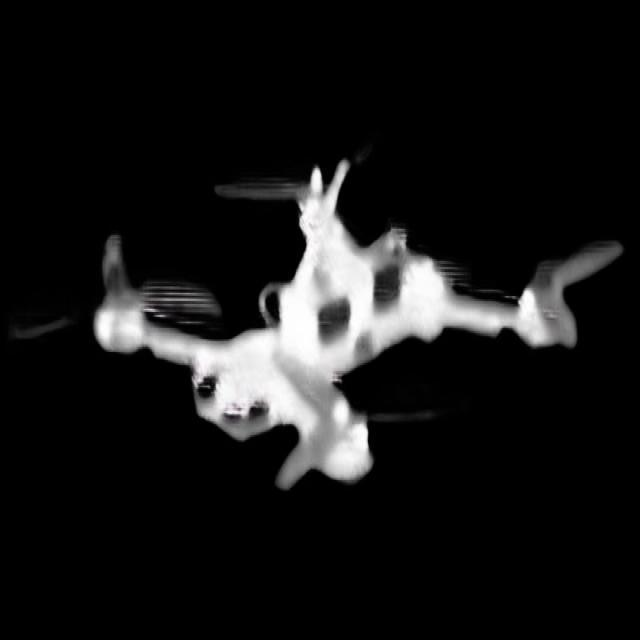drone: (9, 111, 630, 520)
